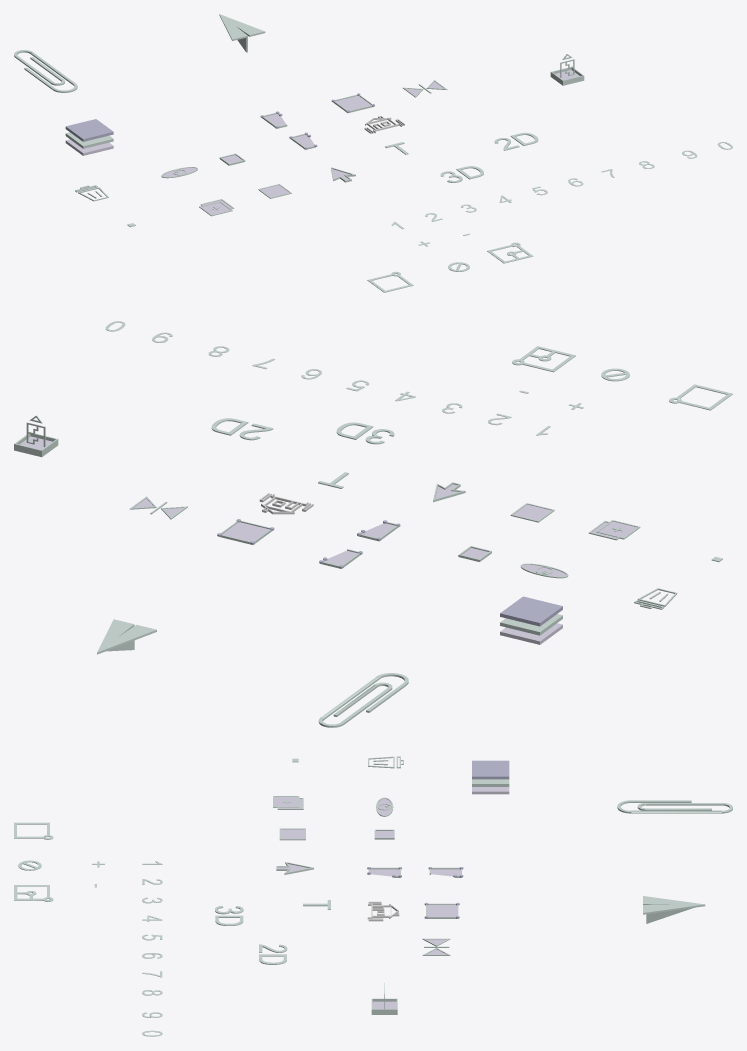
File: icon.glb
3 views of the same model, one above another, from view 1: azimuth 30°, elevation 25°; view 2: azimuth 150°, elevation 25°; view 3: azimuth 270°, elevation 25° (orthographic). The views are drawn at different scales.
Visible parts, largest first — view 1: Box007, TextPlus001, Box003, Text001, Box005; view 2: Box007, TextPlus001, Box003, Text001, Box005; view 3: Box007, TextPlus001, Box003, Text001, Box005.
Part boxes in pixels (bbox=[...]): Box007: bbox=[14, 50, 77, 92]; TextPlus001: bbox=[385, 132, 538, 182]; Box003: bbox=[65, 119, 113, 141]; Text001: bbox=[391, 142, 732, 229]; Box005: bbox=[219, 14, 265, 40]; Box007: bbox=[318, 673, 408, 727]; TextPlus001: bbox=[211, 418, 394, 488]; Box003: bbox=[500, 596, 562, 626]; Text001: bbox=[105, 321, 550, 435]; Box005: bbox=[97, 619, 156, 654]; Box007: bbox=[617, 800, 732, 813]; TextPlus001: bbox=[215, 900, 330, 964]; Box003: bbox=[472, 760, 509, 779]; Text001: bbox=[142, 861, 162, 1036]; Box005: bbox=[643, 896, 705, 914].
Size of the model in its own units: 2118 by 153 by 2301.
